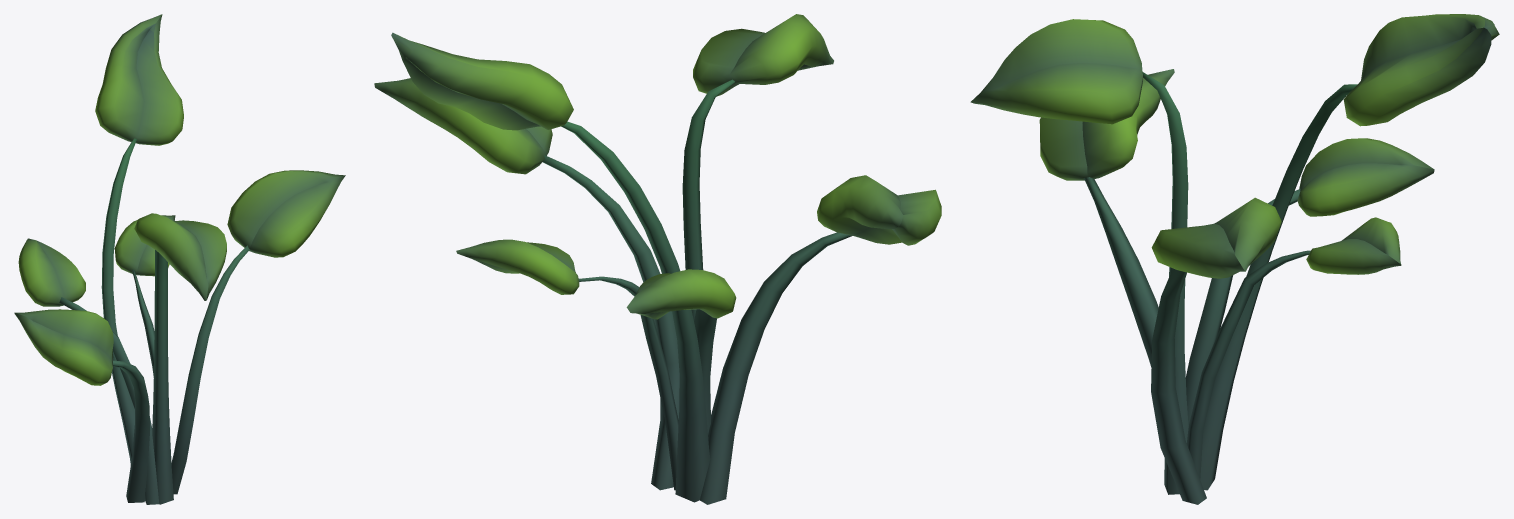
The model's file is Leaves_Small_01.fbx.
The picture shows the model from 3 angles, left to right: view 1: azimuth 30°, elevation 25°; view 2: azimuth 150°, elevation 25°; view 3: azimuth 270°, elevation 25°; orthographic projection. The views are drawn at different scales.
Visible parts, largest first — view 1: Leaves_Small_01; view 2: Leaves_Small_01; view 3: Leaves_Small_01.
Part boxes in pixels (<box>): Leaves_Small_01: <box>14,14,345,504</box>; Leaves_Small_01: <box>374,14,941,504</box>; Leaves_Small_01: <box>970,14,1499,504</box>.
Bounding box in the file's own units: 94.57 × 96.23 × 86.09.
